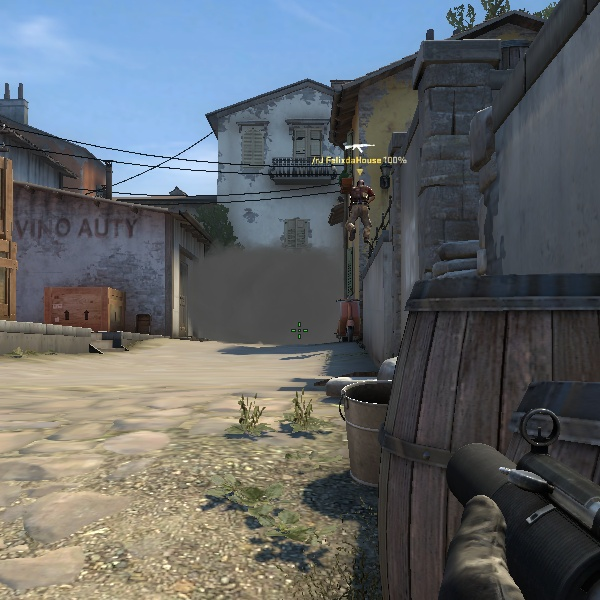t_body: (335, 176, 381, 227)
